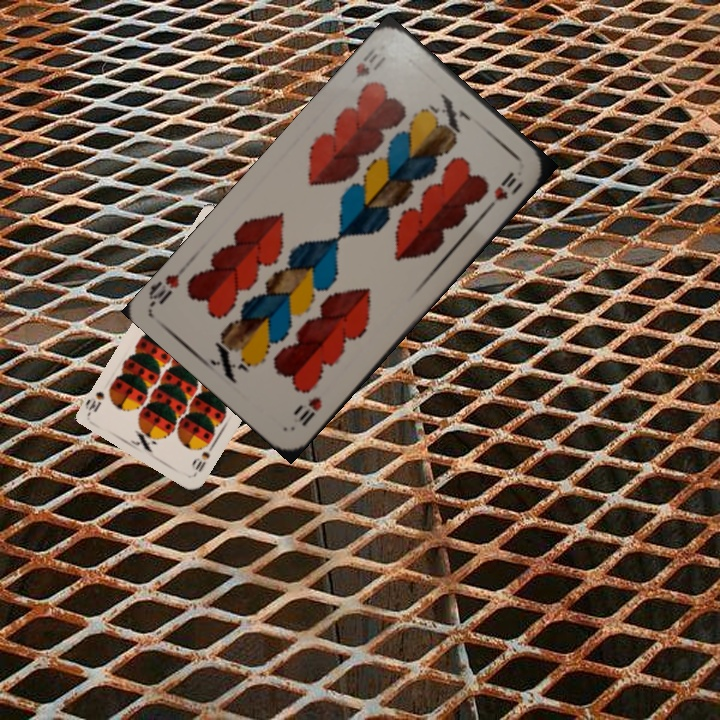H10: (289, 393, 325, 429), (351, 44, 384, 81)
S10: (189, 447, 213, 475)
